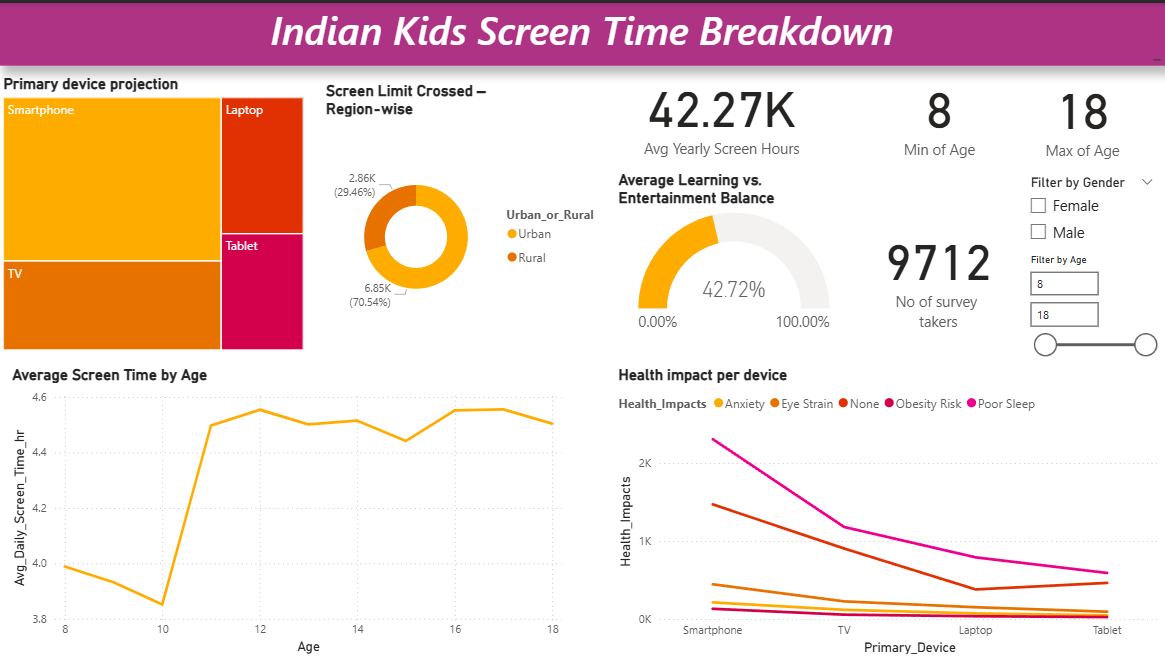

The page's visual inventory and layout, read from the dashboard file:
{"tool":"powerbi","page":{"name":"Page 1","canvas":[1280,720],"ordinal":0},"visuals":[{"type":"lineChart","title":"Average Screen Time by Age","fields":{"Category":["Data_staging.Age"],"Y":["Avg(Data_staging.Avg_Daily_Screen_Time_hr)"]},"box":[10,397.7,612.9,322.1],"z":0},{"type":"donutChart","title":"Screen Limit Crossed – Region-wise","fields":{"Category":["Data_staging.Urban_or_Rural"],"Y":["CountNonNull(Data_staging.Exceeded_Recommended_Limit)"]},"box":[353.5,86.9,307.9,299.3],"z":1000},{"type":"treemap","title":"Primary device projection","fields":{"Group":["Data_staging.Primary_Device"],"Values":["CountNonNull(Data_staging.Primary_Device)"]},"box":[0,78.4,339.2,307.9],"z":2000},{"type":"card","fields":{"Values":["Min(Data_staging.Age)"]},"box":[959.3,42.8,146.8,159.6],"z":3000},{"type":"card","fields":{"Values":["Max(Data_staging.Age)"]},"box":[1120.4,44.2,139.7,159.6],"z":4000},{"type":"gauge","title":"Average Learning vs. Entertainment Balance","fields":{"Y":["Avg(Data_staging.Educational_to_Recreational_Ratio)"]},"box":[675.6,183.9,263.7,188.2],"z":5000},{"type":"lineChart","title":"Health impact per device","fields":{"Category":["Data_staging.Primary_Device"],"Y":["CountNonNull(Data_staging.Health_Impacts.1)"],"Series":["Data_staging.Health_Impacts.1"]},"box":[675.6,397.7,604.4,322.1],"z":6000},{"type":"textbox","title":"Indian Kids Screen Time Breakdown","box":[0,0,1280,68.4],"z":7000},{"type":"card","fields":{"Values":["Sum(Data_staging.Avg_Daily_Screen_Time_hr)"]},"box":[615.8,65.6,354.9,111.2],"z":8000},{"type":"slicer","fields":{"Values":["Data_staging.Gender"]},"box":[1120.4,183.9,159.6,88.4],"z":9000},{"type":"slicer","fields":{"Values":["Data_staging.Age"]},"box":[1120.4,270.8,159.6,126.9],"z":10000},{"type":"card","fields":{"Values":["CountNonNull(Data_staging.Age)"]},"box":[956.4,192.4,149.7,193.9],"z":11000}]}

Visuals, with their boxes in screenshot pixels (x1, y1, x2, y2), scaled from the page's 1280x720 canvas onto the 1165x658 screenshot:
"Average Screen Time by Age" lineChart: (left=9, top=363, right=567, bottom=657)
"Screen Limit Crossed – Region-wise" donutChart: (left=322, top=79, right=602, bottom=353)
"Primary device projection" treemap: (left=0, top=72, right=309, bottom=353)
card - Min(Data_staging.Age): (left=873, top=39, right=1007, bottom=185)
card - Max(Data_staging.Age): (left=1020, top=40, right=1147, bottom=186)
"Average Learning vs. Entertainment Balance" gauge: (left=615, top=168, right=855, bottom=340)
"Health impact per device" lineChart: (left=615, top=363, right=1164, bottom=657)
"Indian Kids Screen Time Breakdown" textbox: (left=0, top=0, right=1164, bottom=63)
card - Sum(Data_staging.Avg_Daily_Screen_Time_hr): (left=560, top=60, right=883, bottom=162)
slicer - Data_staging.Gender: (left=1020, top=168, right=1164, bottom=249)
slicer - Data_staging.Age: (left=1020, top=247, right=1164, bottom=363)
card - CountNonNull(Data_staging.Age): (left=870, top=176, right=1007, bottom=353)
